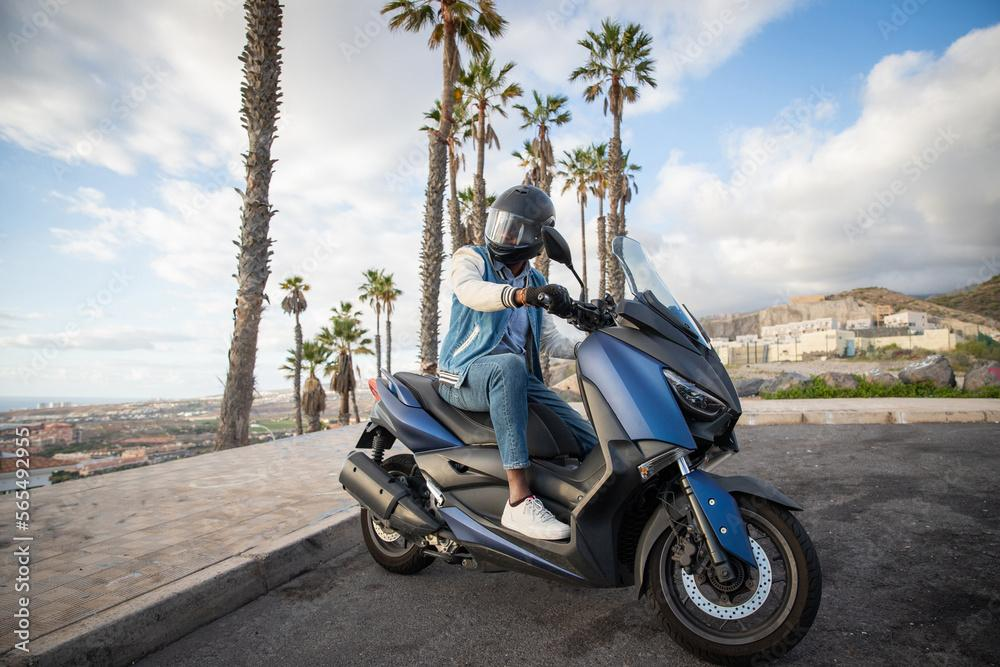helmet: (484, 184, 557, 264)
